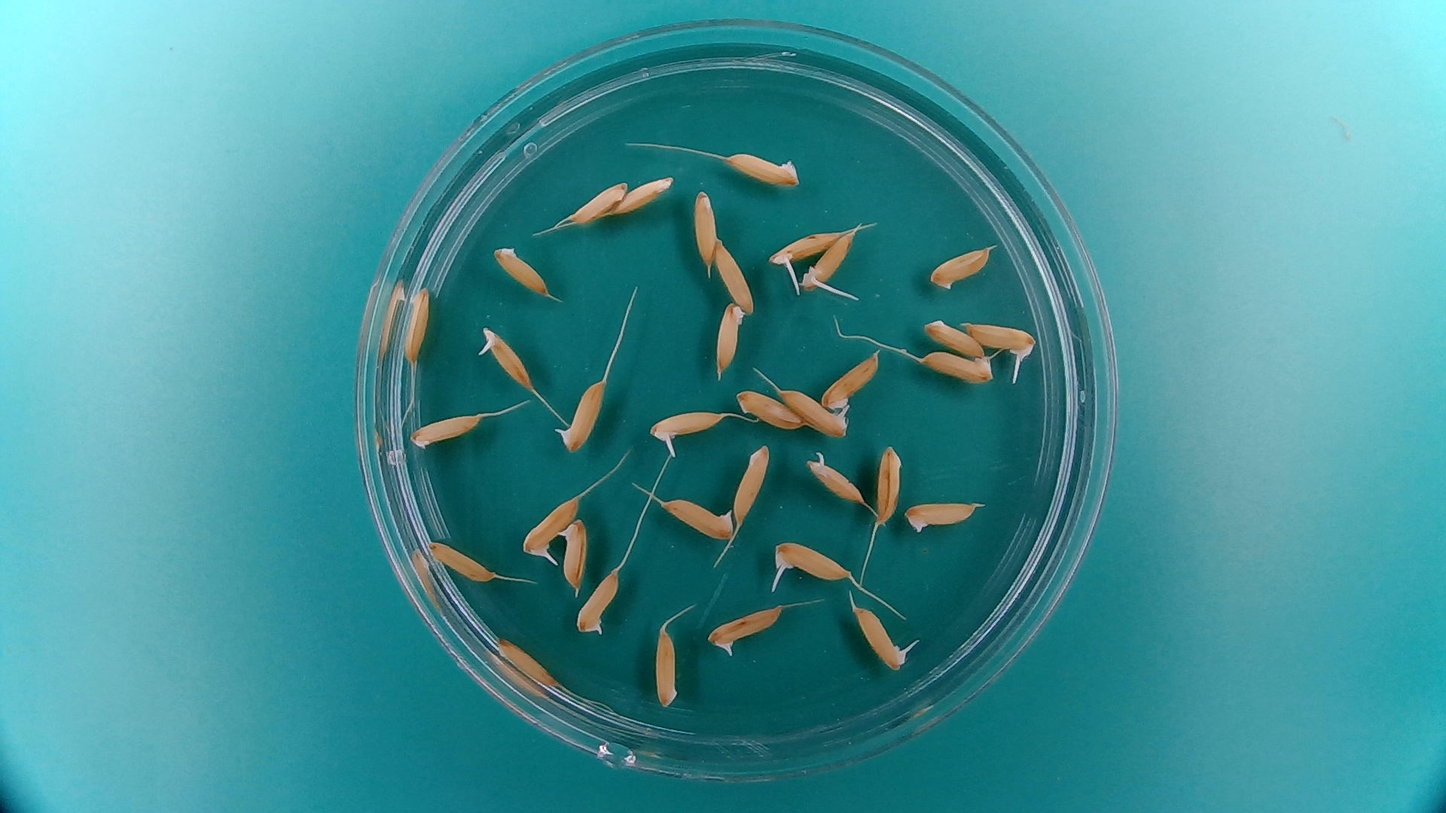no: (490, 241, 557, 301), (821, 349, 883, 412), (657, 493, 736, 541), (925, 242, 998, 293), (731, 439, 772, 528), (493, 636, 563, 688), (720, 147, 804, 190), (423, 538, 499, 585), (711, 236, 756, 315), (407, 409, 487, 452), (901, 495, 984, 536), (566, 177, 630, 229), (918, 347, 1003, 386), (734, 387, 806, 433), (917, 315, 989, 359), (613, 173, 676, 219), (710, 300, 747, 377), (872, 440, 905, 526), (401, 280, 434, 363), (652, 624, 682, 714), (690, 187, 719, 271)
yes: (475, 322, 536, 395), (706, 606, 788, 659), (553, 376, 609, 453), (520, 489, 581, 557), (850, 607, 913, 672), (801, 449, 868, 507), (769, 537, 851, 583), (779, 385, 850, 438), (802, 228, 858, 292), (766, 226, 847, 269), (574, 566, 622, 637), (962, 317, 1039, 358), (649, 405, 729, 443), (558, 515, 590, 594)
